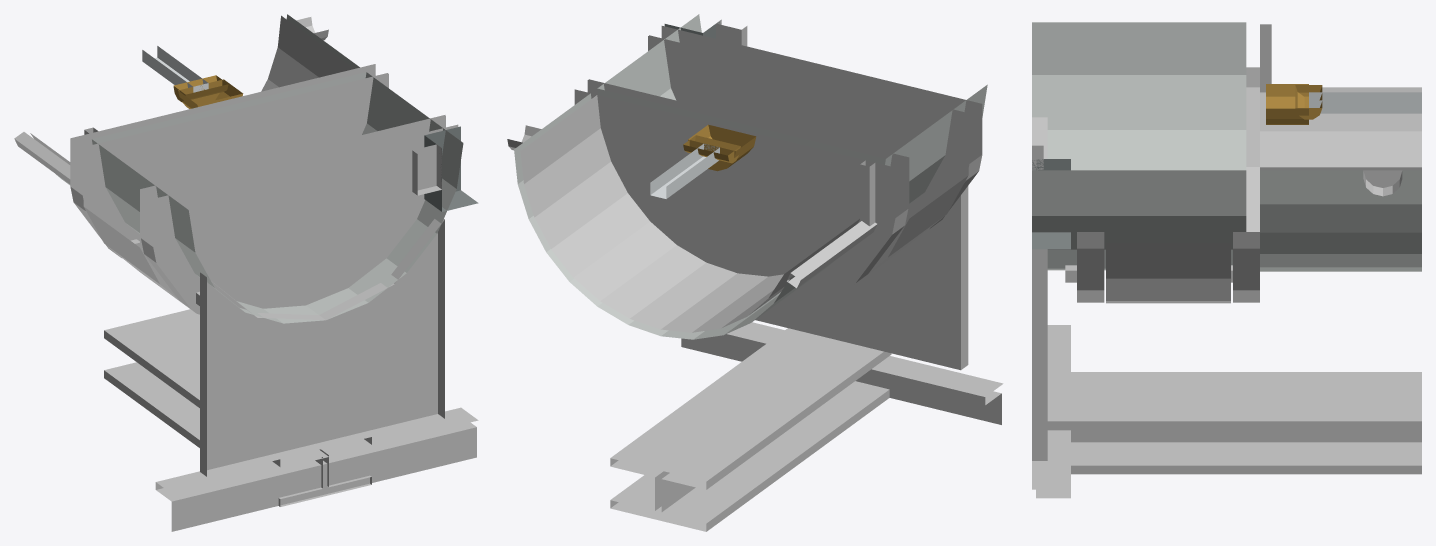
Rendered from cell_57.obj.
3 views of the same model, side by side, from view 1: azimuth 30°, elevation 25°; view 2: azimuth 150°, elevation 25°; view 3: azimuth 270°, elevation 25° (orthographic). The views are drawn at different scales.
Bounding box in the file's own units: 1 × 1 × 1.
